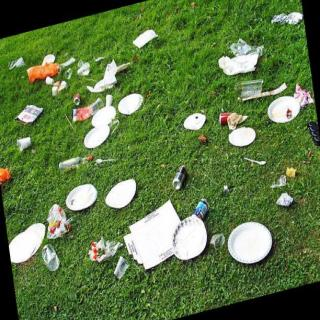METAL: (38, 246, 59, 275), (192, 198, 209, 222), (220, 112, 242, 129), (173, 165, 186, 191), (73, 93, 82, 106)
